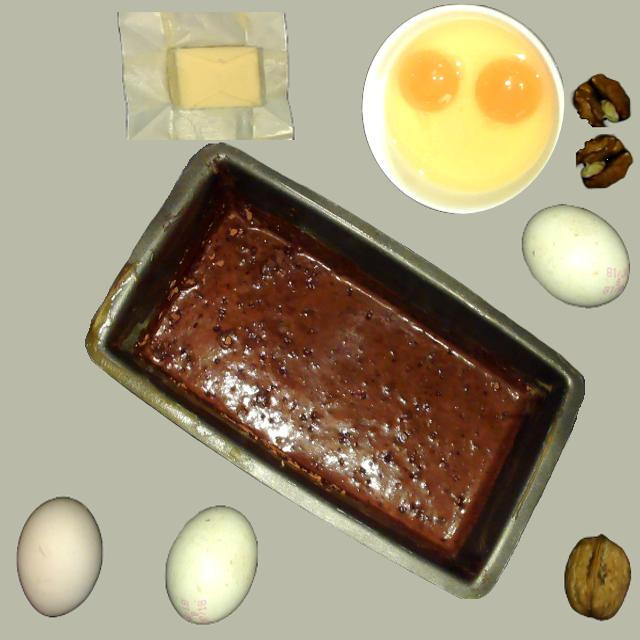Egg: (475, 57, 543, 125), (399, 50, 461, 114)
Walnut: (559, 529, 635, 625)
